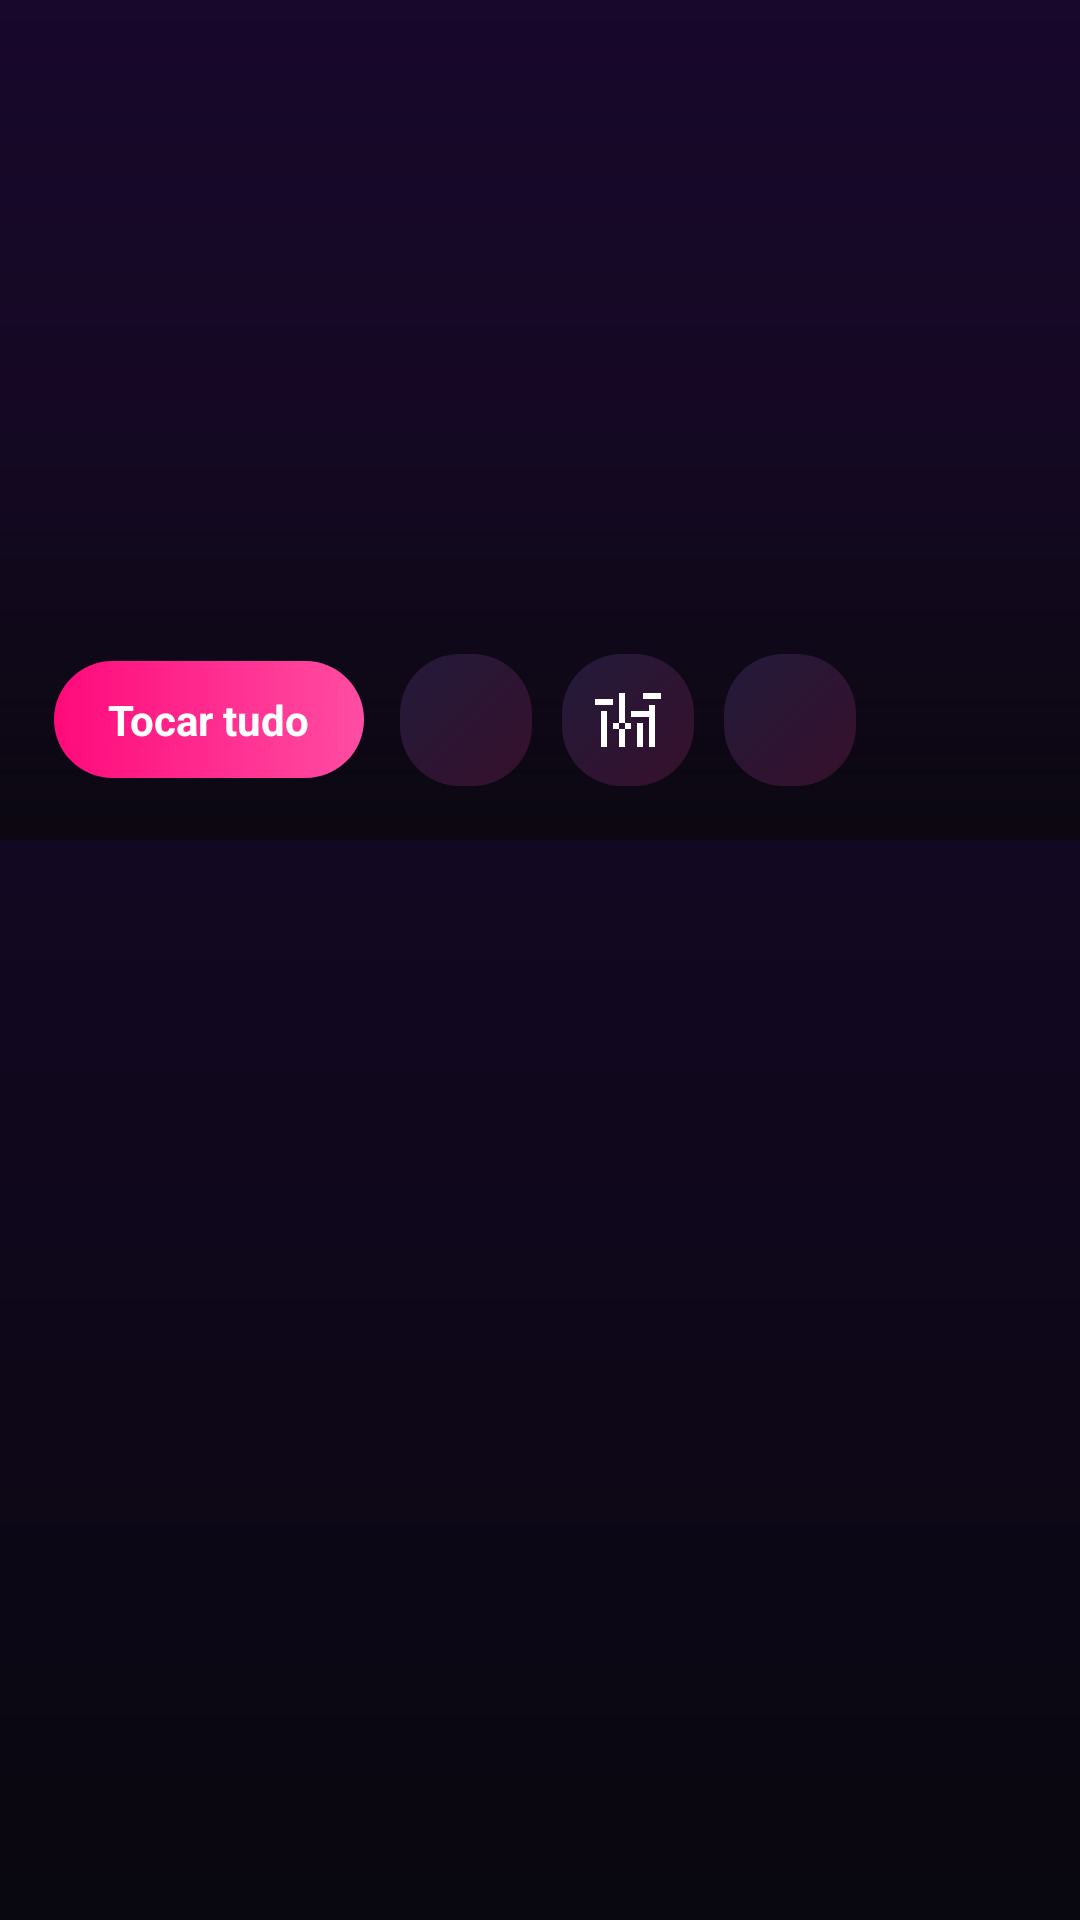

Locate icon controls on the screen. Image size 1080px×1920px, boxes as (x1, y1, x2, y2).
equalizer: (562, 654, 694, 786)
